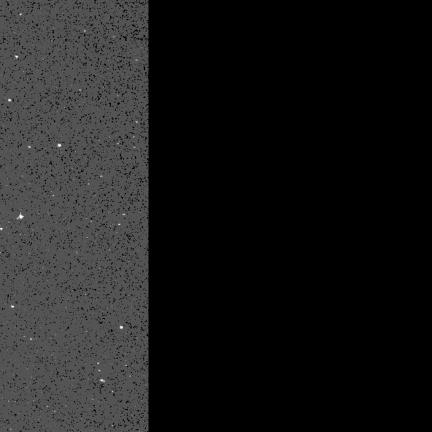blob: (58, 144, 62, 148), (15, 55, 19, 59), (120, 326, 124, 330), (9, 99, 12, 102)
